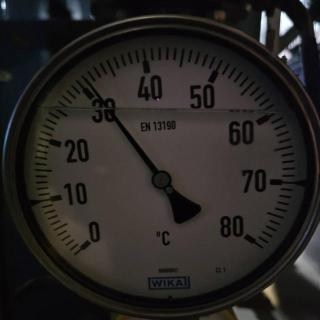gauge: (0, 0, 320, 320), (216, 212, 266, 258), (68, 218, 110, 262), (151, 168, 172, 190), (77, 73, 95, 90)
